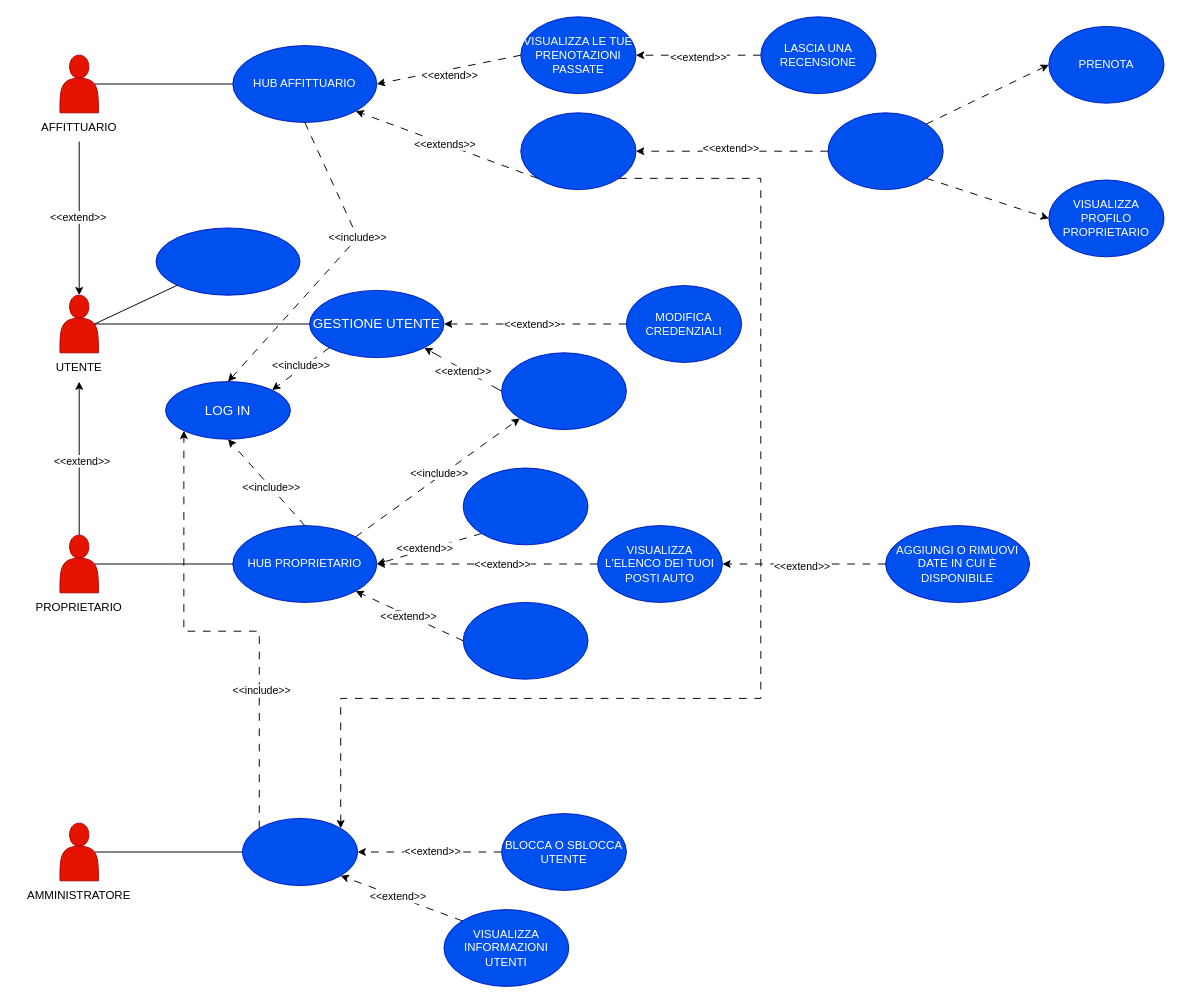
The diagram is 1181 pixels wide and 1003 high, and some of its shapes have lost their labels. The centre of each missing label's shape, as x and y in pixels:
"AGGIUNGI POSTO AUTO" belongs at (525,506).
"HUB ADMIN" belongs at (299,851).
"INSERISCI DOCUMENTO" belongs at (563,391).
"REGISTRAZIONE" belongs at (227,261).
"VISUALIZZA ELENCO POSTI AUTO" belongs at (578,151).
"VISUALIZZA PAGINA POSTO AUTO" belongs at (885,151).
"VISUALIZZA PRENOTAZIONI RICEVUTE" belongs at (525,640).
